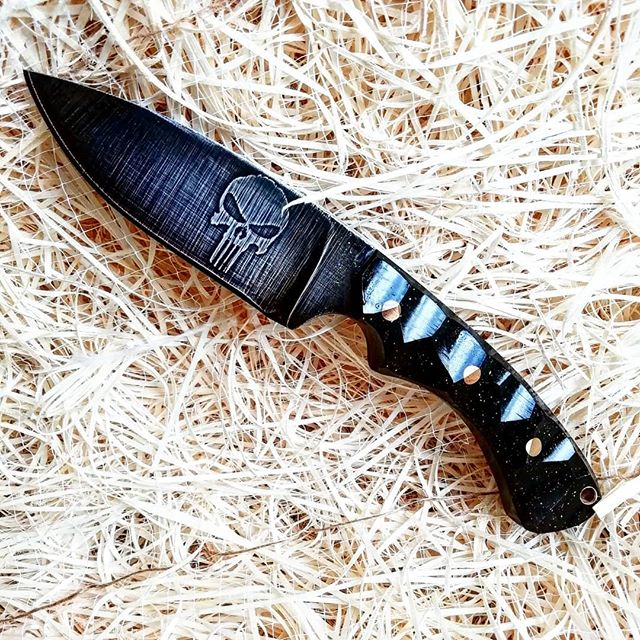knife: (23, 67, 602, 534)
